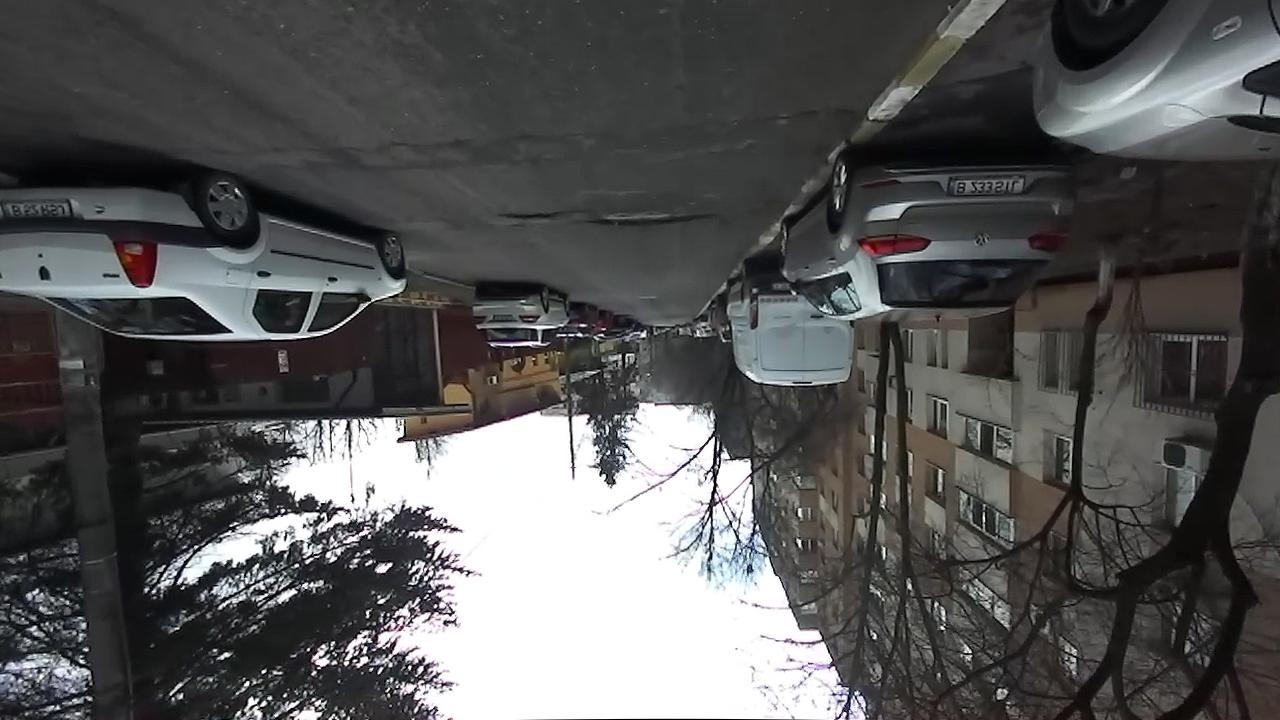pothole: (582, 206, 718, 229), (768, 104, 852, 128), (496, 209, 565, 223)
